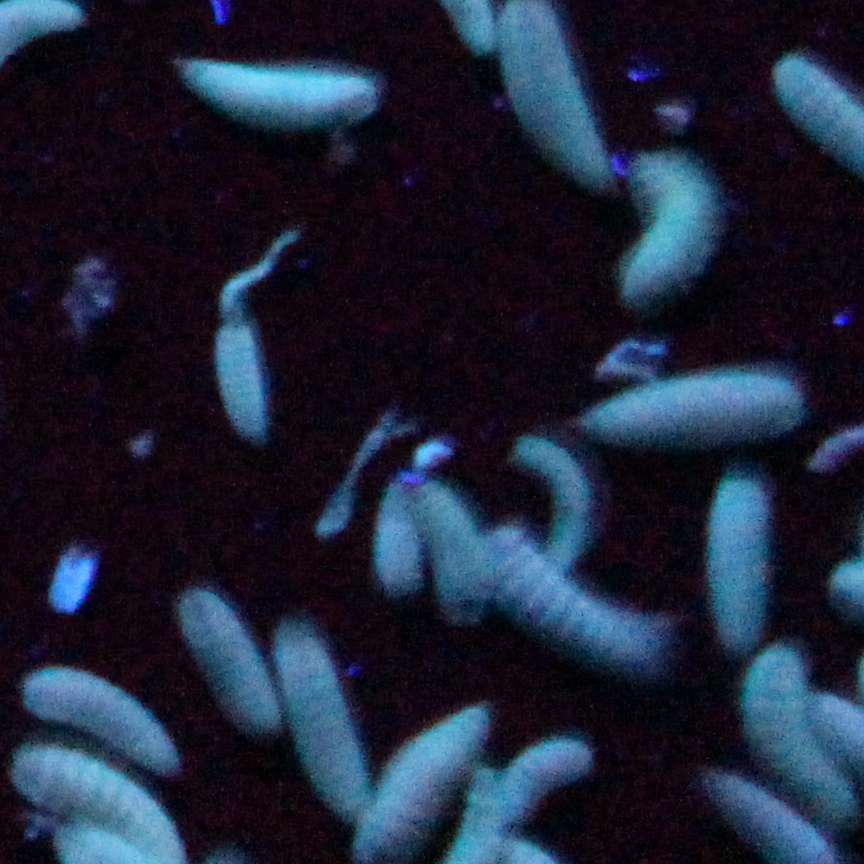larve: (488, 526, 674, 667), (356, 706, 489, 857), (12, 743, 181, 860), (749, 648, 851, 826), (23, 668, 182, 775), (279, 632, 366, 816), (180, 590, 278, 739), (584, 373, 800, 440), (621, 153, 713, 299), (181, 58, 378, 124), (705, 476, 768, 647), (487, 739, 589, 833), (521, 435, 590, 571), (425, 483, 484, 625), (218, 322, 267, 442), (373, 487, 422, 595)
